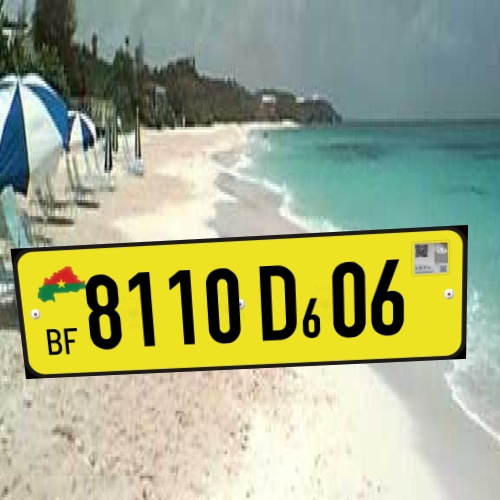plate: (6, 228, 478, 385)
